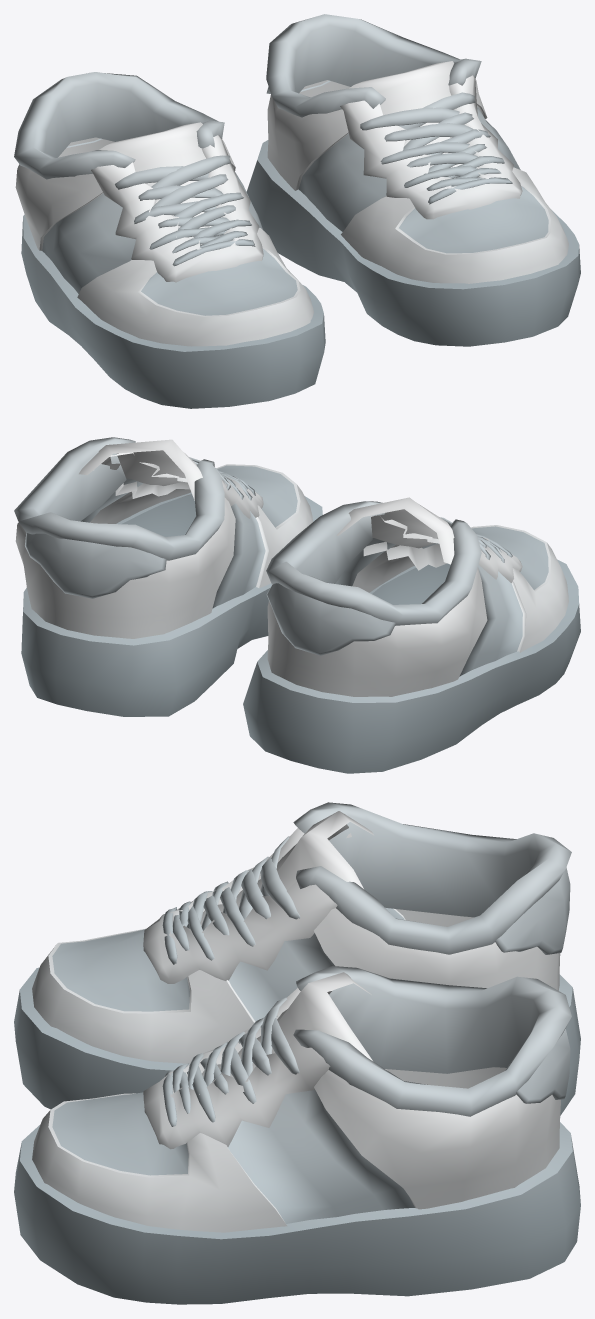
File: Shoe_Sneakers_01.glb
3 renders of one model, top to bottom at view 1: azimuth 30°, elevation 25°; view 2: azimuth 150°, elevation 25°; view 3: azimuth 270°, elevation 25°, orthographic. The views are drawn at different scales.
Visible parts, largest first — view 1: Shoe_Sneakers_01; view 2: Shoe_Sneakers_01; view 3: Shoe_Sneakers_01.
Part boxes in pixels (x1,y1,x2,y2): Shoe_Sneakers_01: [14, 14, 580, 408]; Shoe_Sneakers_01: [14, 437, 580, 773]; Shoe_Sneakers_01: [14, 802, 580, 1304].
Bounding box in the file's own units: 0.2487 × 0.103 × 0.2032.
1 material, 1 textured.
